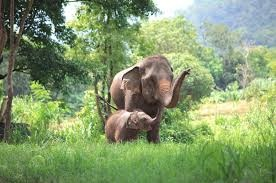elephant: (107, 54, 191, 145), (101, 106, 164, 147)
